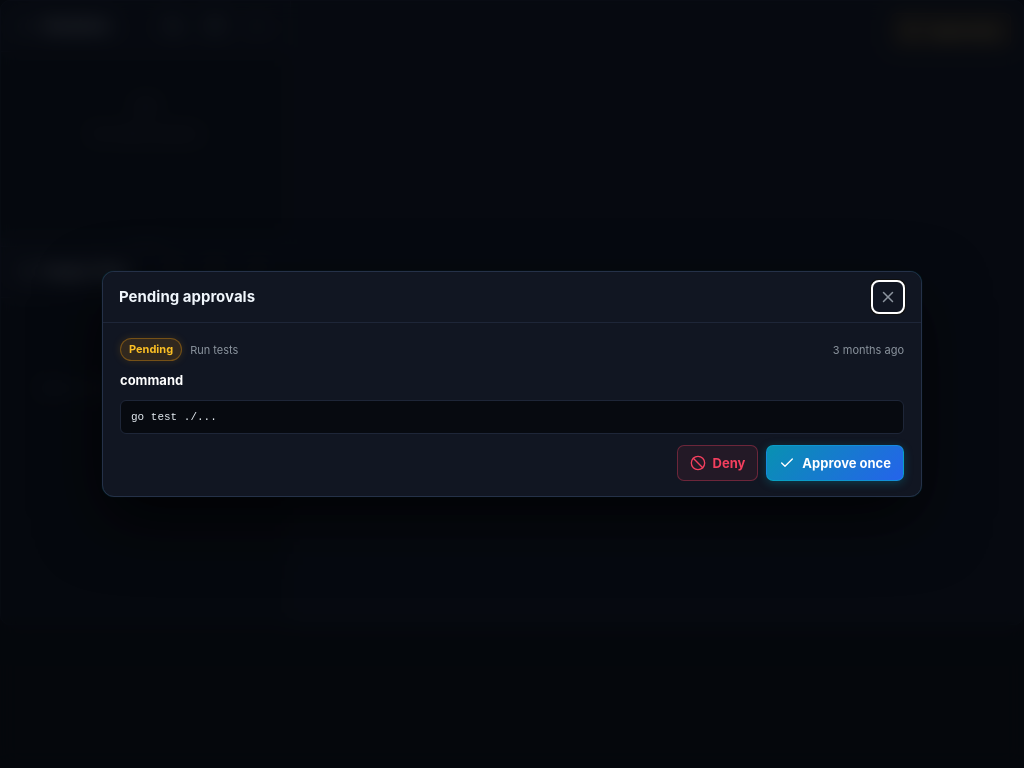
Test: closes the approval dialog after the final request is approved
The width and height of the screenshot is (1024, 768).
Expected: the dialog "Pending approvals" is shown, 102,271 -> 922,497
Click the button "Approve once". click: (835, 463)
box: 766,445 -> 904,481
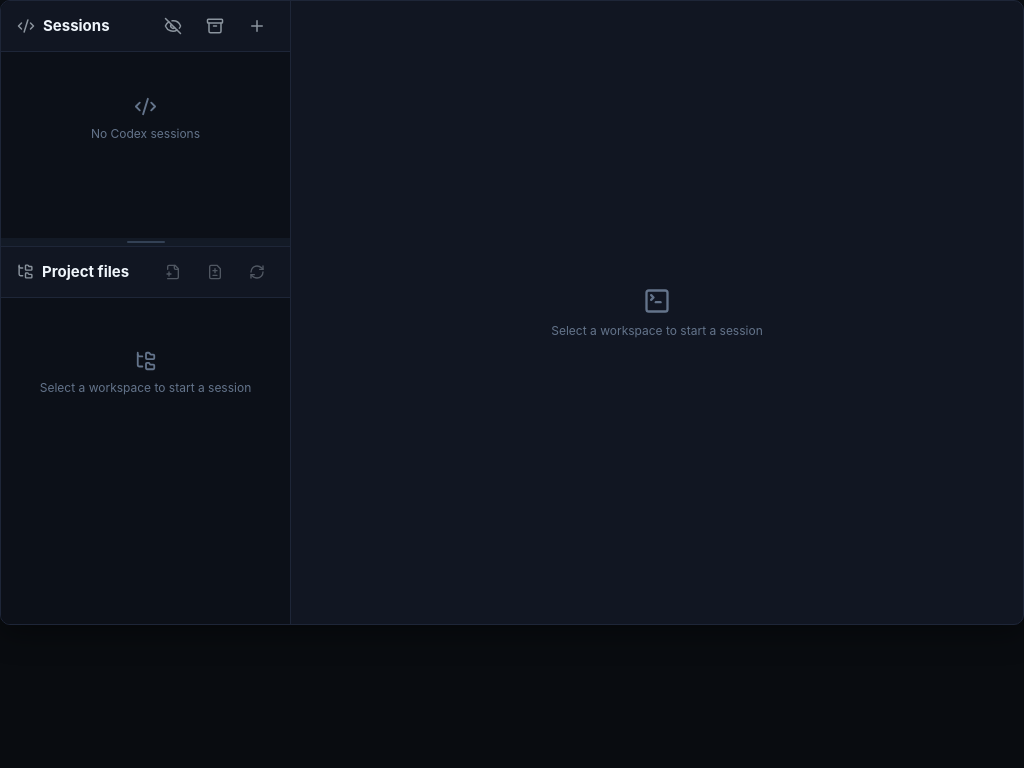
Expected: the heading "Pending approvals" is gone
